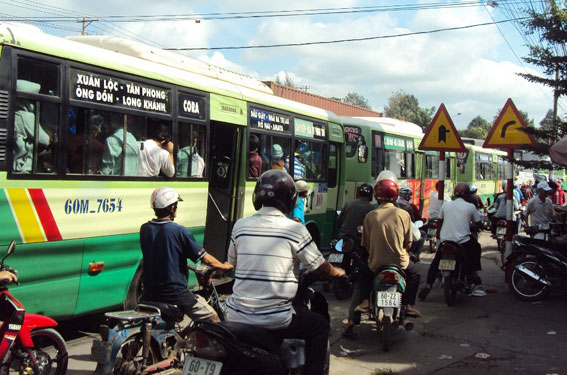Bien-so: (181, 354, 222, 374), (379, 292, 401, 308), (438, 257, 457, 271)
